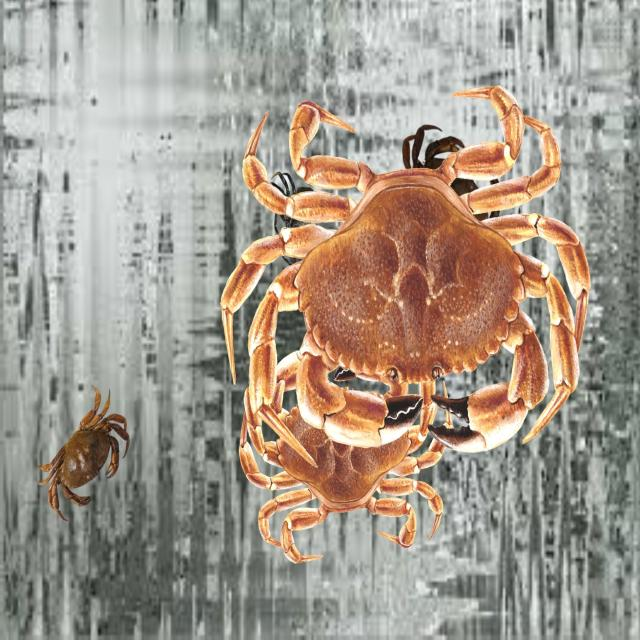European_Green_Crab: (266, 161, 330, 276)
